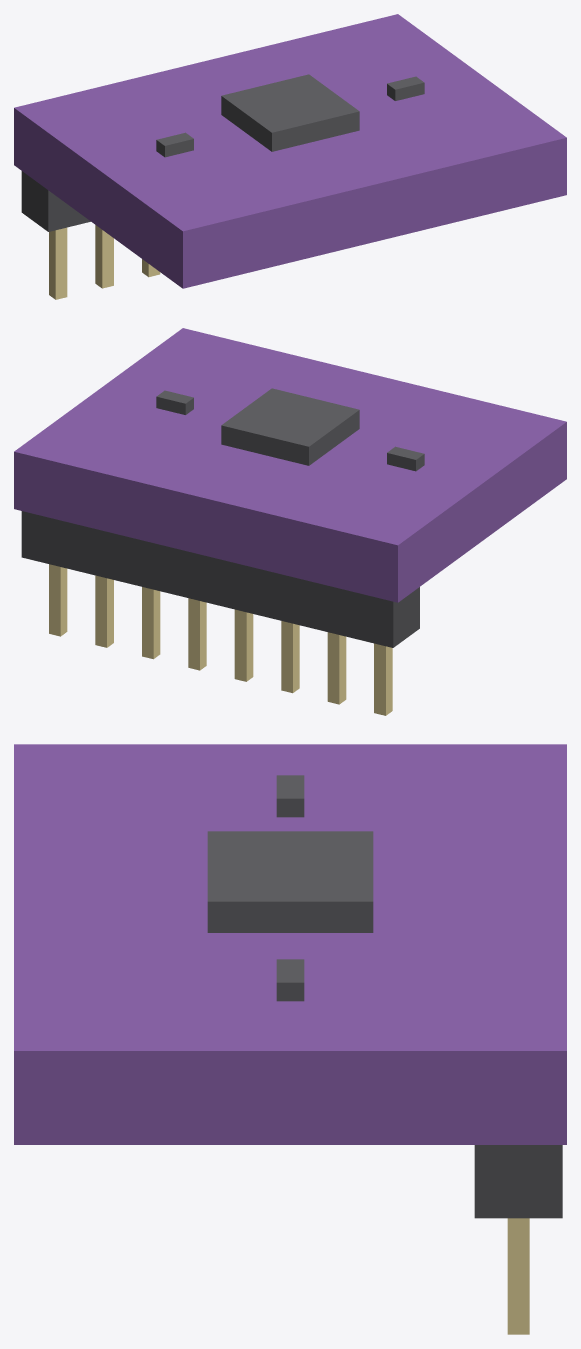
The model's file is mpu6050.glb.
The picture shows the model from 3 angles, top to bottom: view 1: azimuth 30°, elevation 25°; view 2: azimuth 150°, elevation 25°; view 3: azimuth 270°, elevation 25°; orthographic projection. The views are drawn at different scales.
Parts seen in each view (by area): view 1: mpu6050-pcb, mpu6050-ic, mpu6050-pins, mpu6050-plastic; view 2: mpu6050-pcb, mpu6050-plastic, mpu6050-pins, mpu6050-ic; view 3: mpu6050-pcb, mpu6050-ic, mpu6050-plastic, mpu6050-pins.
Boxes of the visible parts, x1,y1,x2,y2 form: mpu6050-pcb: (14, 14, 566, 288); mpu6050-ic: (156, 74, 424, 157); mpu6050-pins: (49, 225, 160, 299); mpu6050-plastic: (21, 171, 90, 231); mpu6050-pcb: (14, 328, 566, 602); mpu6050-plastic: (21, 511, 419, 647); mpu6050-pins: (49, 564, 392, 715); mpu6050-ic: (156, 388, 424, 471); mpu6050-pcb: (14, 744, 566, 1144); mpu6050-ic: (207, 775, 373, 1001); mpu6050-plastic: (474, 1145, 562, 1218); mpu6050-pins: (507, 1218, 529, 1334).
Size of the model in its own units: 0.021 by 0.0107 by 0.016.
